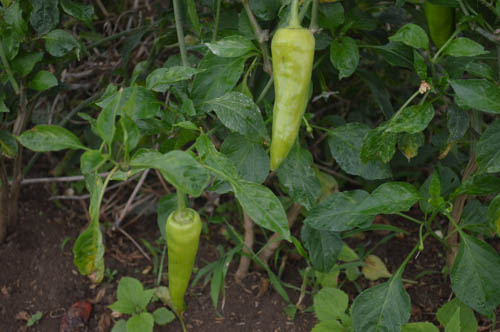ChiliPepper: (259, 24, 319, 177), (156, 214, 209, 316), (420, 3, 461, 56)
